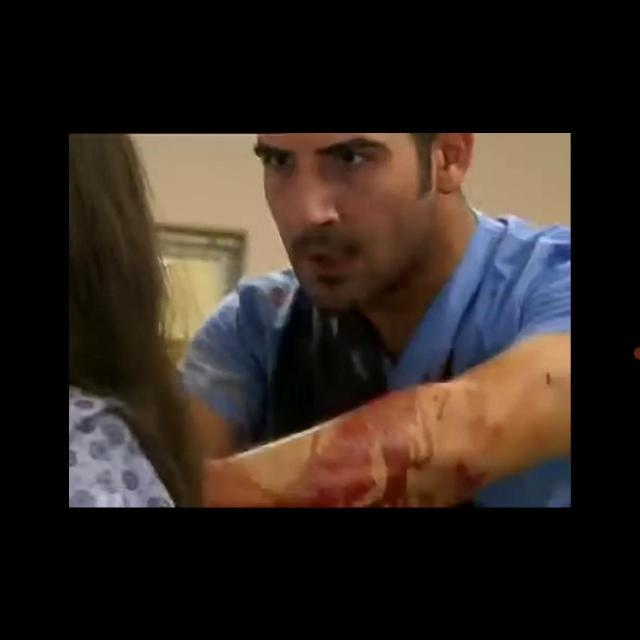blood: (205, 368, 501, 506)
